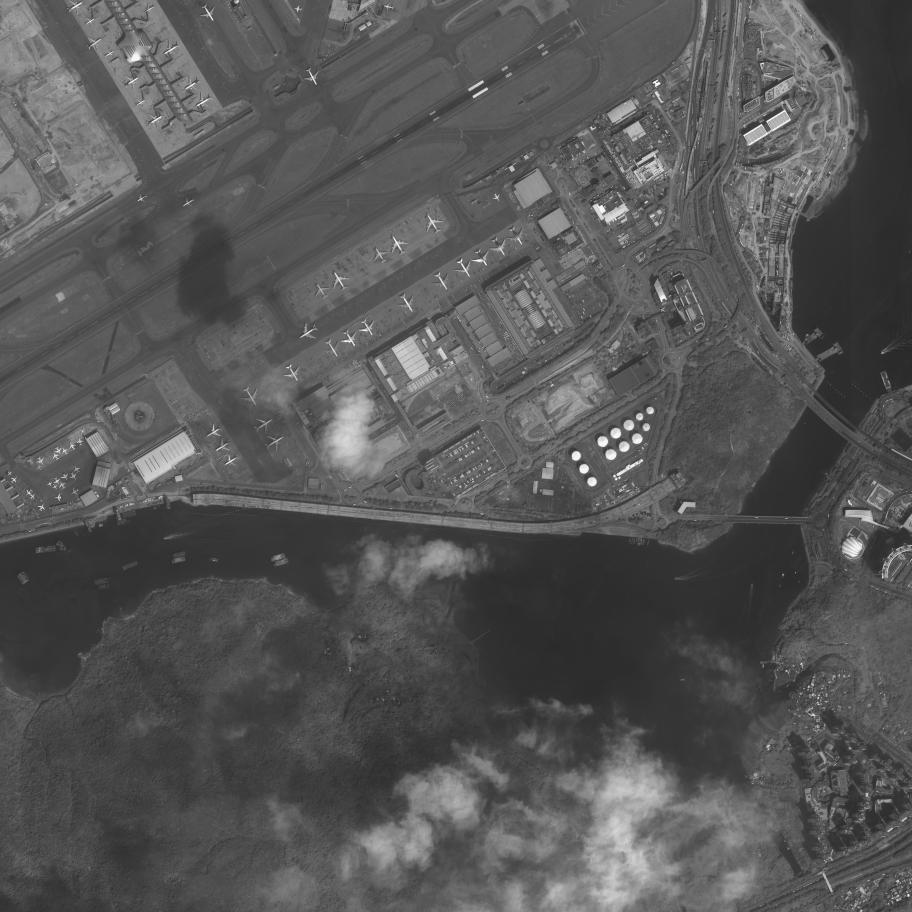plane: (392, 287, 422, 318), (418, 208, 448, 239), (325, 266, 354, 295), (294, 318, 323, 346), (384, 230, 412, 259), (427, 267, 455, 295), (237, 383, 265, 411), (485, 233, 513, 261), (503, 223, 530, 251), (280, 359, 307, 386), (319, 335, 346, 362), (190, 88, 217, 115), (261, 428, 288, 455), (337, 325, 364, 352), (468, 245, 495, 272), (451, 254, 477, 282), (250, 412, 277, 438), (355, 315, 381, 341), (196, 0, 221, 26), (158, 37, 184, 62), (179, 72, 204, 97), (300, 65, 324, 89), (368, 243, 392, 267), (202, 420, 226, 443), (309, 280, 333, 303), (82, 31, 105, 54), (143, 108, 166, 131), (120, 70, 143, 93), (211, 435, 235, 457), (62, 0, 86, 17), (221, 451, 241, 470), (180, 195, 197, 211), (141, 1, 157, 17), (132, 95, 148, 110), (101, 46, 117, 61), (81, 14, 97, 29), (134, 191, 149, 205), (49, 450, 62, 463), (491, 190, 503, 204), (383, 1, 396, 13), (35, 455, 47, 468), (8, 474, 21, 486), (68, 485, 81, 497), (56, 479, 68, 491), (52, 445, 64, 457), (66, 440, 78, 452), (59, 445, 71, 457), (68, 471, 79, 483), (60, 471, 71, 483), (36, 502, 48, 513), (23, 487, 34, 498), (27, 491, 38, 502), (72, 464, 82, 475), (52, 476, 62, 487), (53, 493, 62, 502), (5, 469, 14, 478), (293, 5, 303, 13), (76, 437, 84, 447), (50, 483, 59, 491), (658, 306, 667, 314), (35, 464, 43, 472), (46, 480, 54, 488), (79, 428, 86, 435)
ship: (34, 545, 56, 554), (121, 560, 139, 571), (812, 326, 826, 340), (55, 539, 68, 553), (832, 340, 844, 355), (94, 577, 112, 586), (269, 553, 286, 562), (272, 558, 289, 567), (96, 582, 110, 591), (172, 551, 187, 559), (171, 556, 186, 564), (117, 518, 130, 526), (208, 557, 220, 563), (163, 534, 171, 540), (630, 537, 634, 545), (637, 538, 641, 546), (646, 539, 650, 546), (153, 505, 160, 509), (74, 531, 79, 536), (642, 538, 645, 546), (628, 537, 631, 544), (633, 537, 636, 544), (635, 538, 638, 545), (640, 538, 643, 545), (680, 678, 686, 681), (880, 351, 884, 355), (674, 577, 679, 580), (751, 583, 753, 588), (794, 571, 797, 574), (762, 664, 764, 668), (782, 574, 784, 578), (792, 551, 794, 555), (780, 584, 781, 588)
storage-tank: (597, 436, 608, 448), (610, 428, 621, 439), (619, 441, 630, 452), (632, 433, 643, 444), (571, 450, 581, 461), (587, 476, 597, 487), (624, 420, 634, 431), (605, 450, 616, 460), (579, 464, 589, 474), (646, 407, 654, 415), (642, 423, 650, 431), (636, 413, 643, 422), (614, 477, 618, 481), (613, 475, 616, 478), (618, 476, 621, 479)
